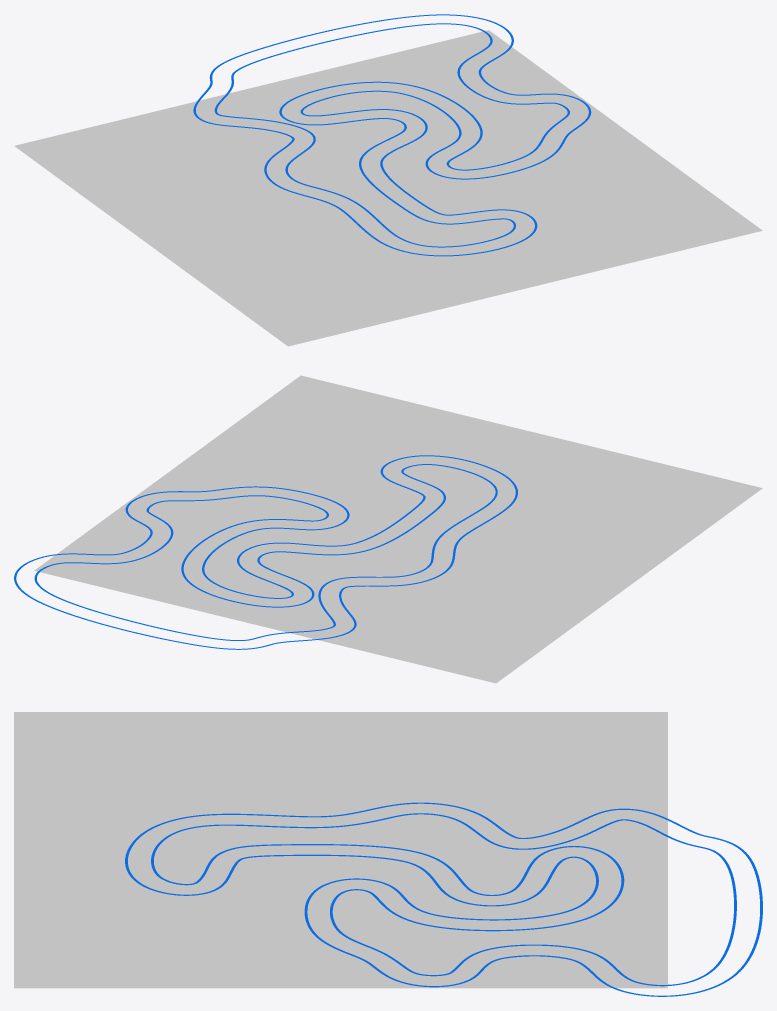
Rendered from racing_map_1.glb.
The picture shows the model from 3 angles, top to bottom: view 1: azimuth 30°, elevation 25°; view 2: azimuth 150°, elevation 25°; view 3: azimuth 270°, elevation 25°; orthographic projection. The views are drawn at different scales.
Parts seen in each view (by area): view 1: Plane, path4567; view 2: Plane, path4567; view 3: Plane, path4567.
Boxes of the visible parts, x1=… form: Plane: x1=14, y1=30, x2=762, y2=346; path4567: x1=193, y1=14, x2=591, y2=256; Plane: x1=34, y1=375, x2=762, y2=683; path4567: x1=14, y1=455, x2=517, y2=649; Plane: x1=14, y1=712, x2=667, y2=988; path4567: x1=125, y1=802, x2=762, y2=996.
Size of the model in its own units: 103 by 0.01 by 115.
